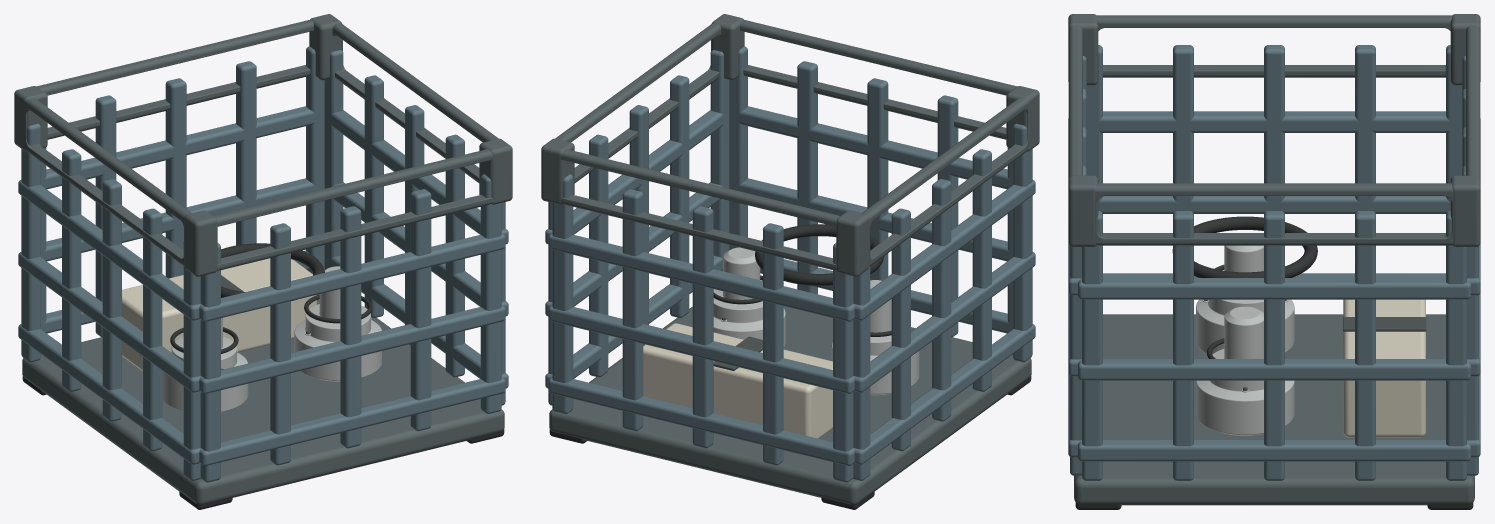
Rendered from parts.fbx.
The picture shows the model from 3 angles, left to right: view 1: azimuth 30°, elevation 25°; view 2: azimuth 150°, elevation 25°; view 3: azimuth 270°, elevation 25°; orthographic projection. The views are drawn at different scales.
Visible parts, largest first — view 1: parts_LOD0; view 2: parts_LOD0; view 3: parts_LOD0.
Boxes of the visible parts, x1,y1,x2,y2 form: parts_LOD0: (14, 14, 512, 509); parts_LOD0: (541, 14, 1039, 509); parts_LOD0: (1068, 14, 1480, 509).
Size of what is drawn, in the model's own units: 0.494 by 0.433 by 0.494.
